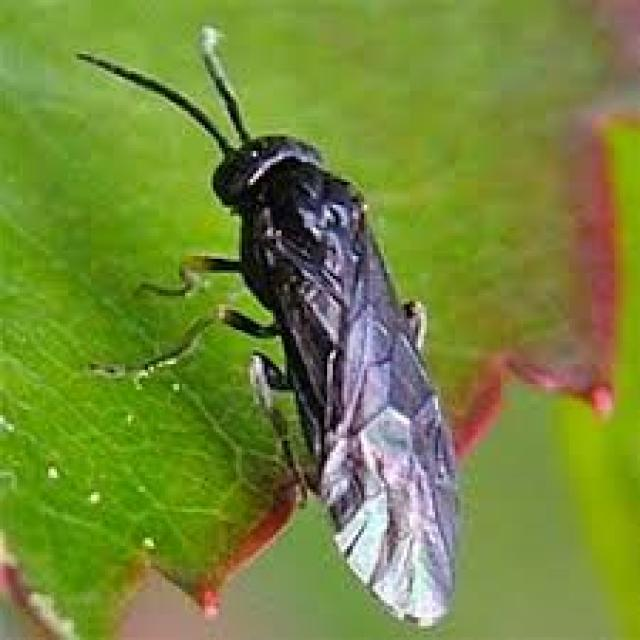Saw Fly: (55, 20, 492, 630)
